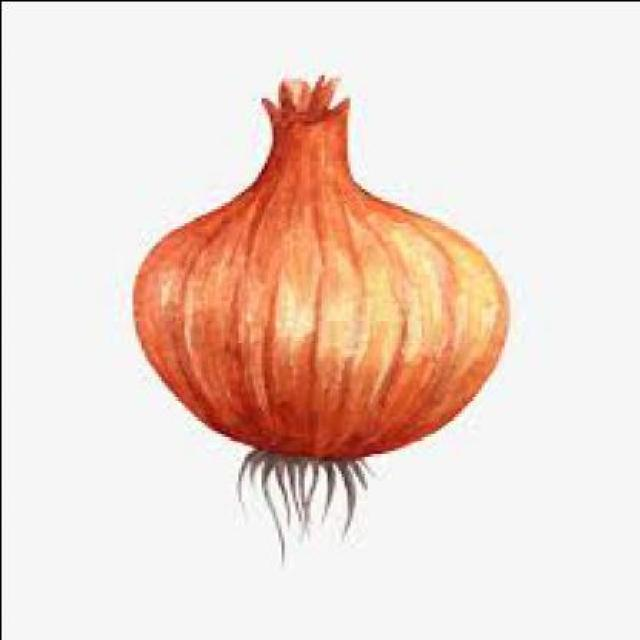BIODEGRADABLE: (134, 68, 512, 554)
